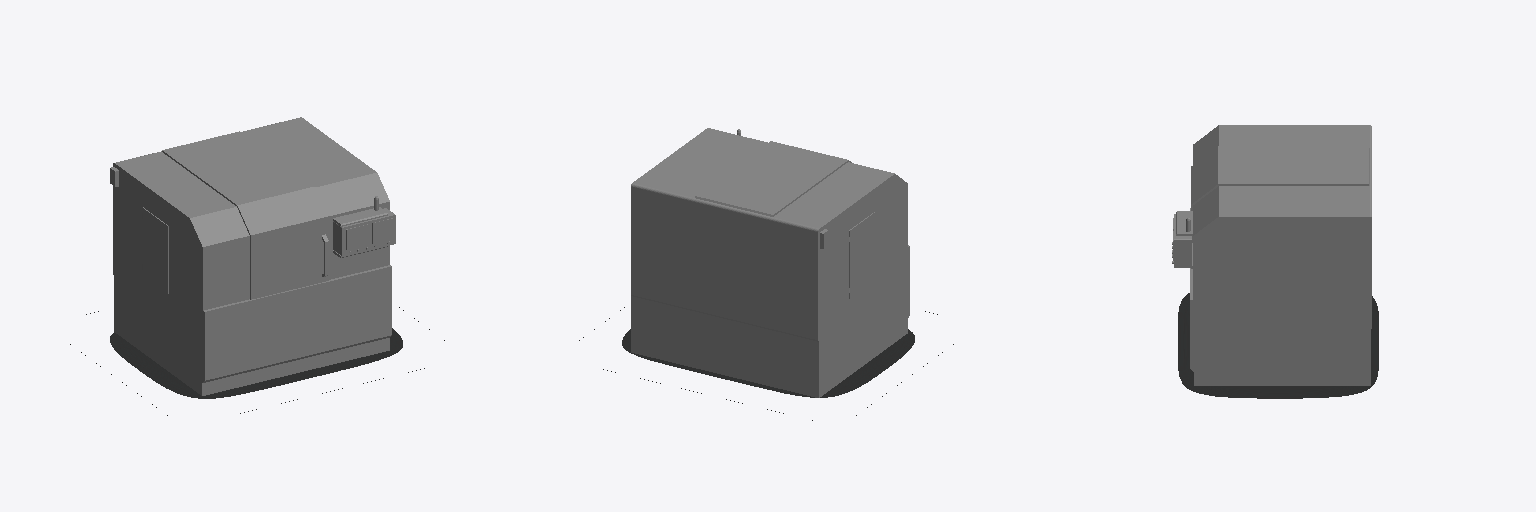
3 views of the same model, side by side, from view 1: azimuth 30°, elevation 25°; view 2: azimuth 150°, elevation 25°; view 3: azimuth 270°, elevation 25° (orthographic).
Parts seen in each view (by area): view 1: shukongjichuang; view 2: shukongjichuang; view 3: shukongjichuang.
Boxes of the visible parts, x1=… form: shukongjichuang: x1=70, y1=117, x2=444, y2=415; shukongjichuang: x1=579, y1=128, x2=953, y2=420; shukongjichuang: x1=1172, y1=125, x2=1378, y2=398.
Bounding box in the file's own units: 344 × 197 × 293.
Materials: 2 (1 with a texture image).